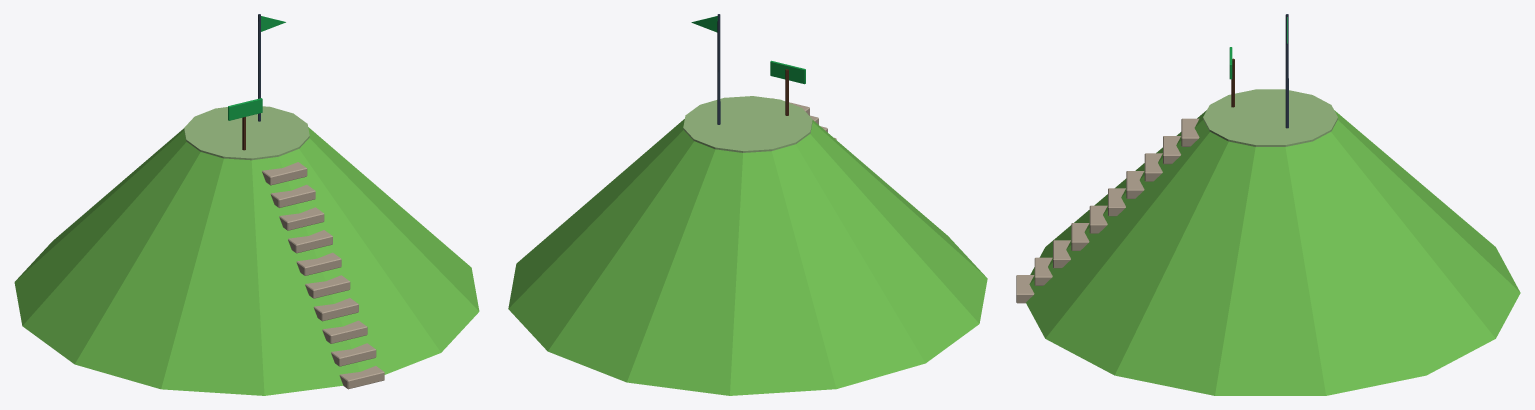
The model's file is bukit_titik_kumpul_v001.glb.
The picture shows the model from 3 angles, left to right: view 1: azimuth 30°, elevation 25°; view 2: azimuth 150°, elevation 25°; view 3: azimuth 270°, elevation 25°; orthographic projection. The views are drawn at different scales.
Parts seen in each view (by area): view 1: Bukit_Titik_Kumpul; view 2: Bukit_Titik_Kumpul; view 3: Bukit_Titik_Kumpul.
Boxes of the visible parts, x1,y1,x2,y2 form: Bukit_Titik_Kumpul: [14, 14, 479, 395]; Bukit_Titik_Kumpul: [508, 14, 987, 395]; Bukit_Titik_Kumpul: [1016, 14, 1520, 395].
Size of the model in its own units: 11.7 by 7.68 by 12.1.
